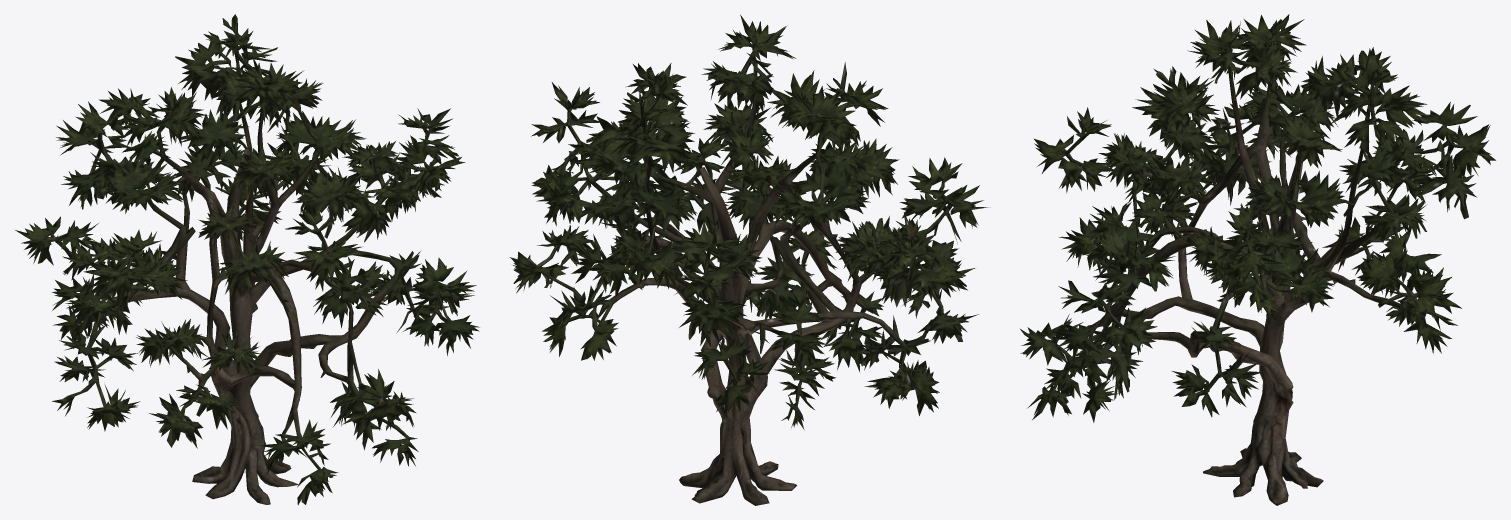
File: CW_HF_RiverAlder_LOD1.fbx
The picture shows the model from 3 angles, left to right: view 1: azimuth 30°, elevation 25°; view 2: azimuth 150°, elevation 25°; view 3: azimuth 270°, elevation 25°; orthographic projection. The views are drawn at different scales.
Visible parts, largest first — view 1: CW_HF_RiverAlder_LOD1; view 2: CW_HF_RiverAlder_LOD1; view 3: CW_HF_RiverAlder_LOD1.
Boxes of the visible parts, x1,y1,x2,y2 form: CW_HF_RiverAlder_LOD1: (15, 14, 479, 505); CW_HF_RiverAlder_LOD1: (510, 14, 990, 505); CW_HF_RiverAlder_LOD1: (1020, 14, 1495, 505).
Size of the model in its own units: 7.79 by 8 by 7.55.
1 material, 1 textured.
